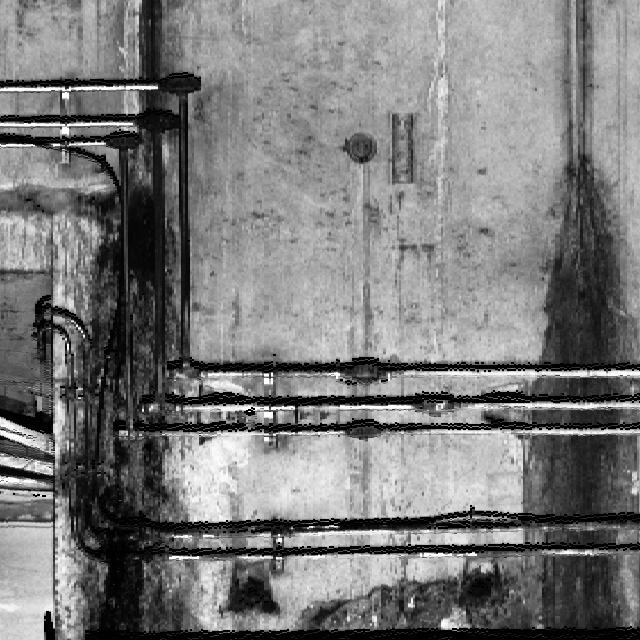leakage: (65, 7, 203, 635), (517, 145, 639, 639), (295, 562, 515, 639), (1, 167, 53, 256)
